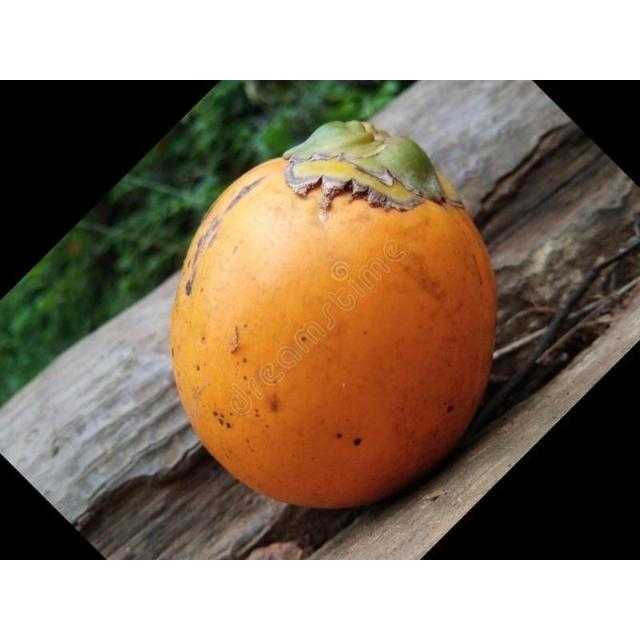good: (167, 122, 498, 512)
